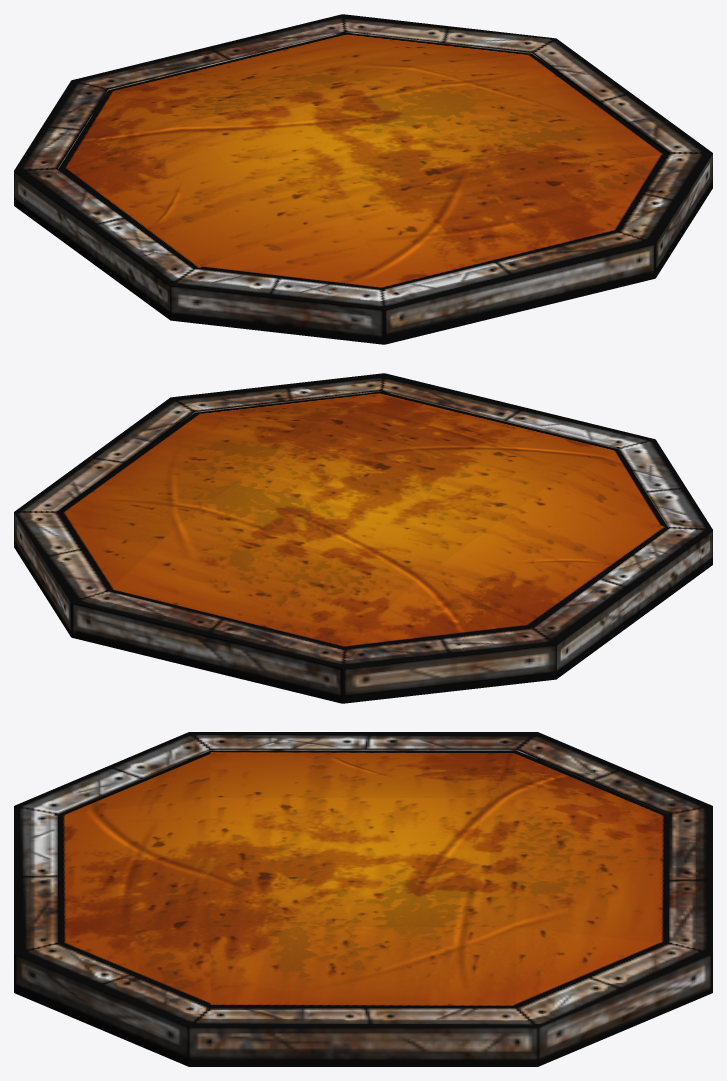
Rendered from Pressure plate animation.fbx.
3 views of the same model, one above another, from view 1: azimuth 30°, elevation 25°; view 2: azimuth 150°, elevation 25°; view 3: azimuth 270°, elevation 25° (orthographic). The views are drawn at different scales.
Visible parts, largest first — view 1: polySurface2, polySurface1; view 2: polySurface2, polySurface1; view 3: polySurface2, polySurface1.
Part boxes in pixels (x1,y1,x2,y2): polySurface2: (58,32,668,289); polySurface1: (14,14,712,344); polySurface2: (58,391,668,648); polySurface1: (14,373,712,703); polySurface2: (58,750,668,1007); polySurface1: (14,732,712,1066).
Size of the model in its own units: 2.85 by 0.2554 by 2.85.
